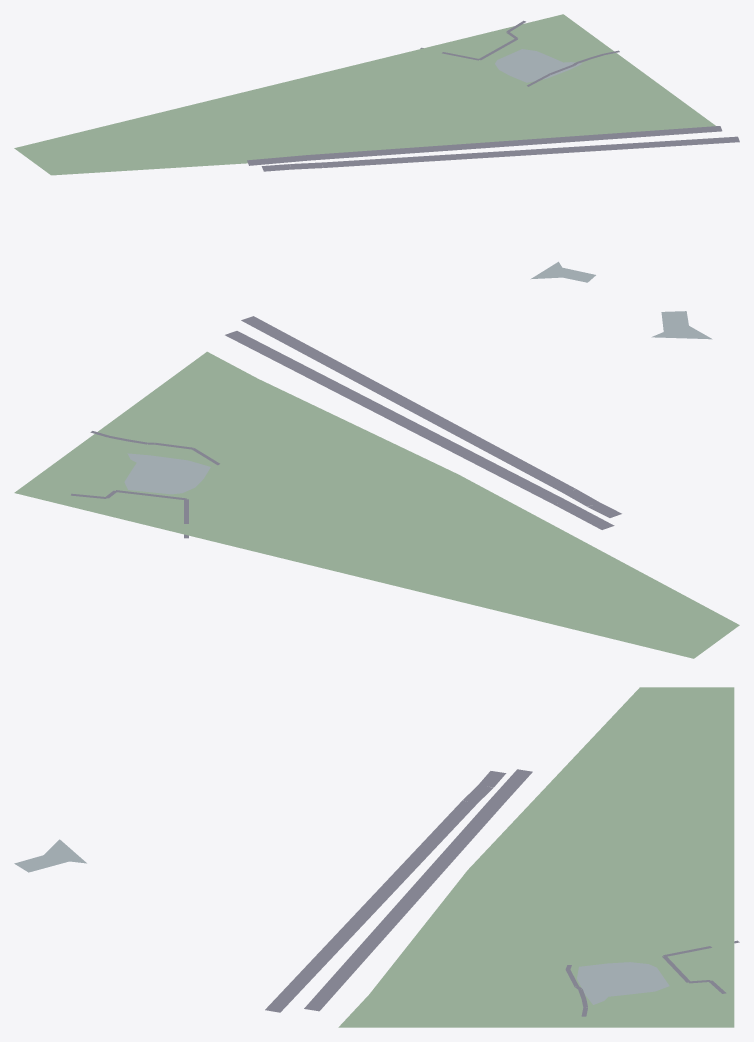
The model's file is 137_82_mid.glb.
3 views of the same model, one above another, from view 1: azimuth 30°, elevation 25°; view 2: azimuth 150°, elevation 25°; view 3: azimuth 270°, elevation 25° (orthographic). The views are drawn at different scales.
Bounding box in the file's own units: 500 × 9.23 × 451.
